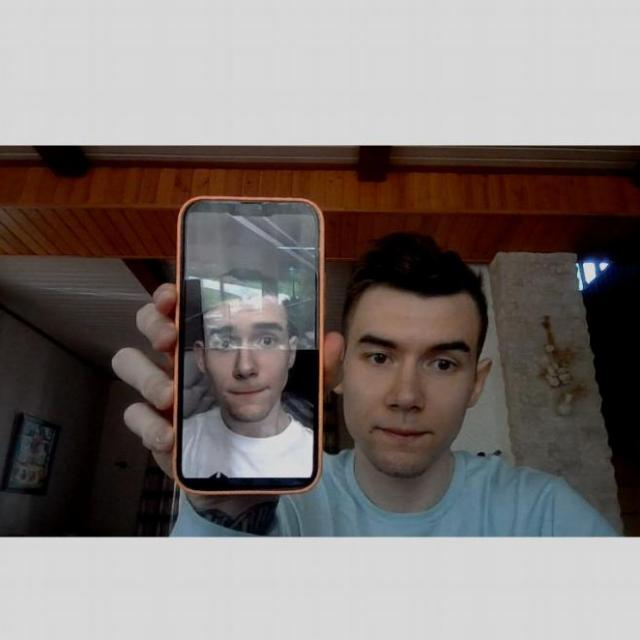device: (172, 199, 322, 490)
live: (348, 296, 473, 477)
